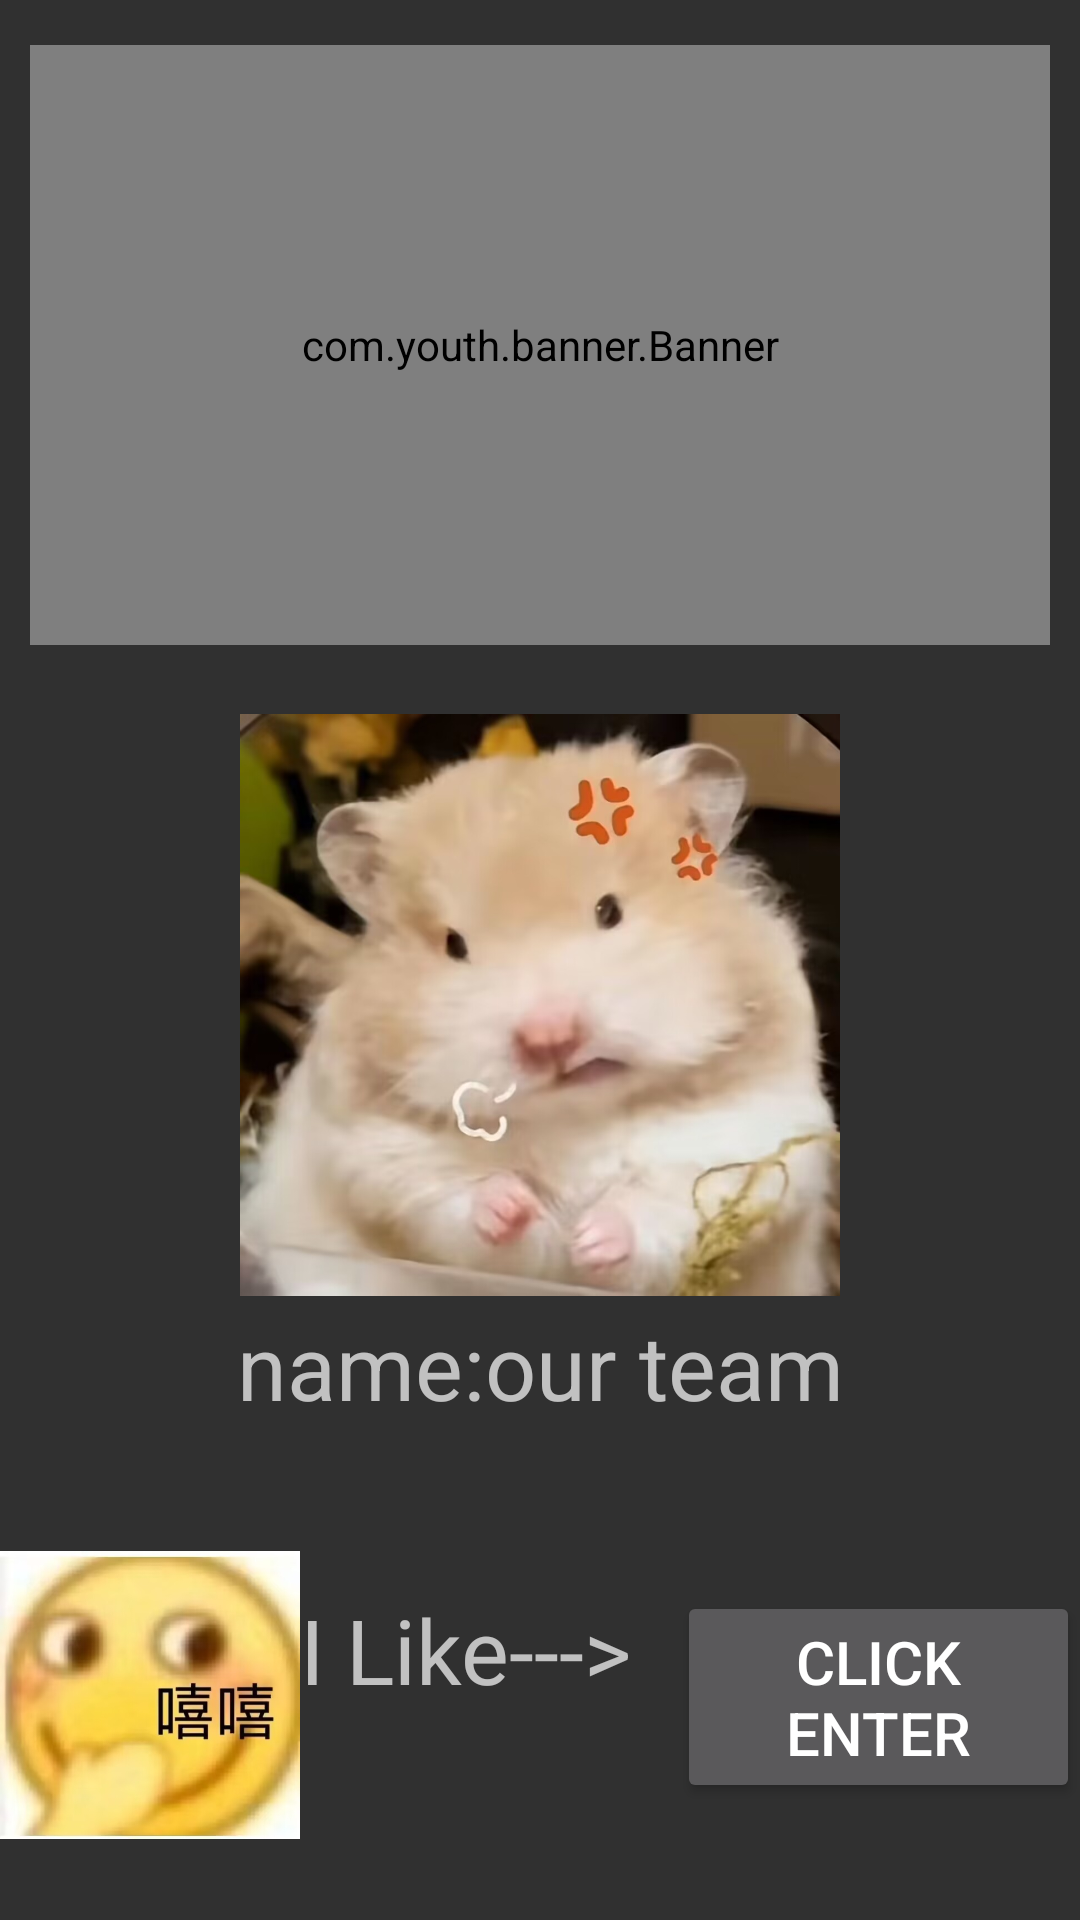

Locate icon controls on the screen. Image size 1080 x 1920, boxes as (x1, y1, x2, y2).
happy: (0, 1551, 300, 1839)
